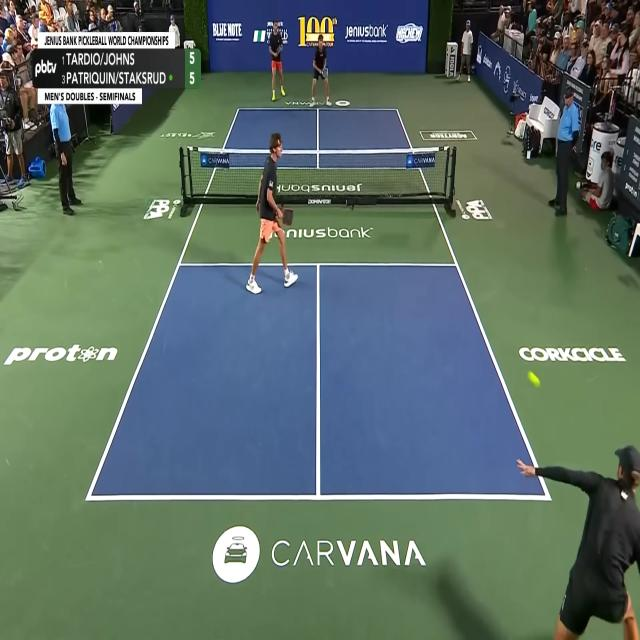ball: (527, 369, 541, 388)
